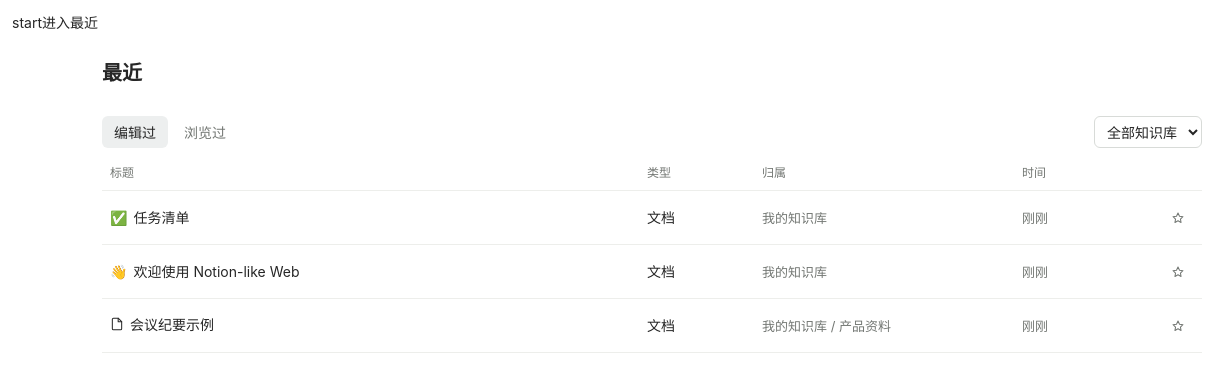
Test: RecentPage › 打开文档后出现在最近浏览中
Click the button "✅ 任务清单".
click(150, 217)  # box x1=110 y1=207 x2=190 y2=227
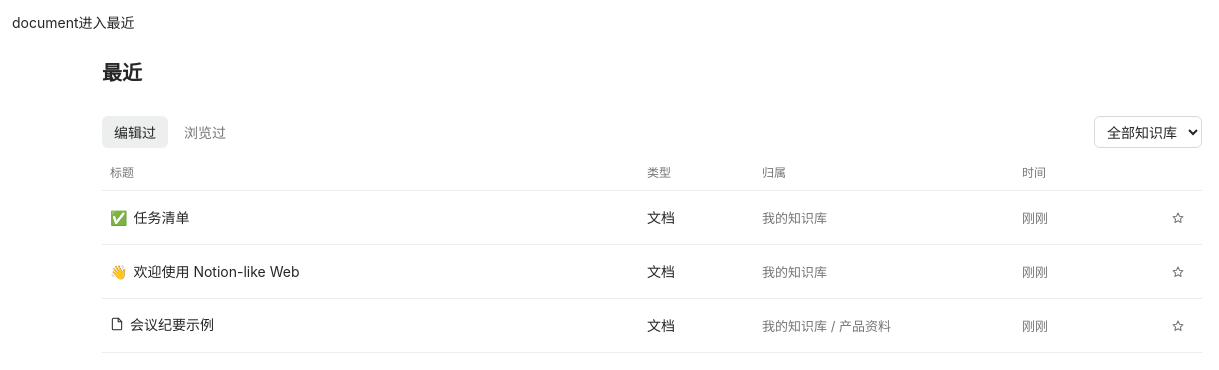
Expected: the text with test id "view" reads "document", x1=12 y1=14 x2=78 y2=31
